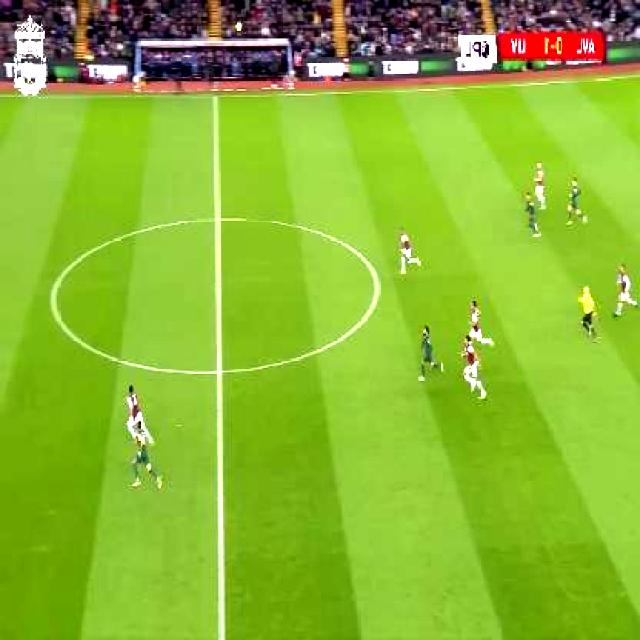halfcircle_bottom: (208, 352, 232, 388)
halfcircle_top: (205, 202, 232, 236)
midline_top_intersection: (206, 83, 225, 108)
